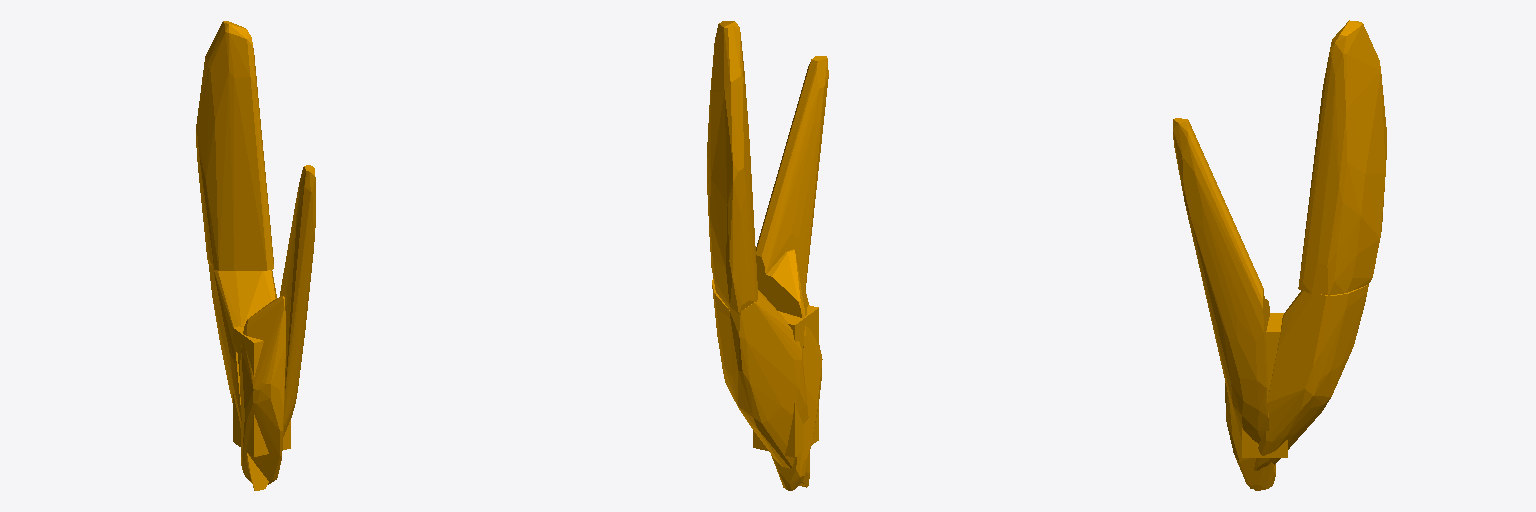
URDF robot description (large_sphere):
<?xml version="1.0"?>
<robot name="large_sphere">
  <link name="base_link">
    <visual>
      <geometry>
        <mesh filename="hand3.obj"/>
      </geometry>
    </visual>
    <inertial>
			<mass value="100.0"/>
			<inertia ixx="0.0" ixy="0.0" ixz="0.0" iyy="0.0" iyz="0.0" izz="0.0"/>
		</inertial>
    <collision>
      <geometry>
        <mesh filename="hand3.obj"/>
      </geometry>
    </collision>
  </link>
</robot>

--- What the picture shows (computed from the rendered views, not written in the file) ---
The picture shows the robot from 3 angles, left to right: view 1: azimuth 30°, elevation 25°; view 2: azimuth 150°, elevation 25°; view 3: azimuth 270°, elevation 25°; orthographic projection.
Model large_sphere with 1 links and 0 joints (none), rooted at base_link, posed all joints at 0.
Links seen in each view (by area): view 1: base_link; view 2: base_link; view 3: base_link.
Boxes of the visible links, x1,y1,x2,y2 form: base_link: [196, 21, 315, 490]; base_link: [707, 21, 828, 490]; base_link: [1173, 20, 1386, 490].
Bounding box of the posed robot: 0.0781 × 0.2319 × 0.5646 m (x, y, z).
1 mesh visuals loaded from 1 distinct referenced files (1 OBJ).